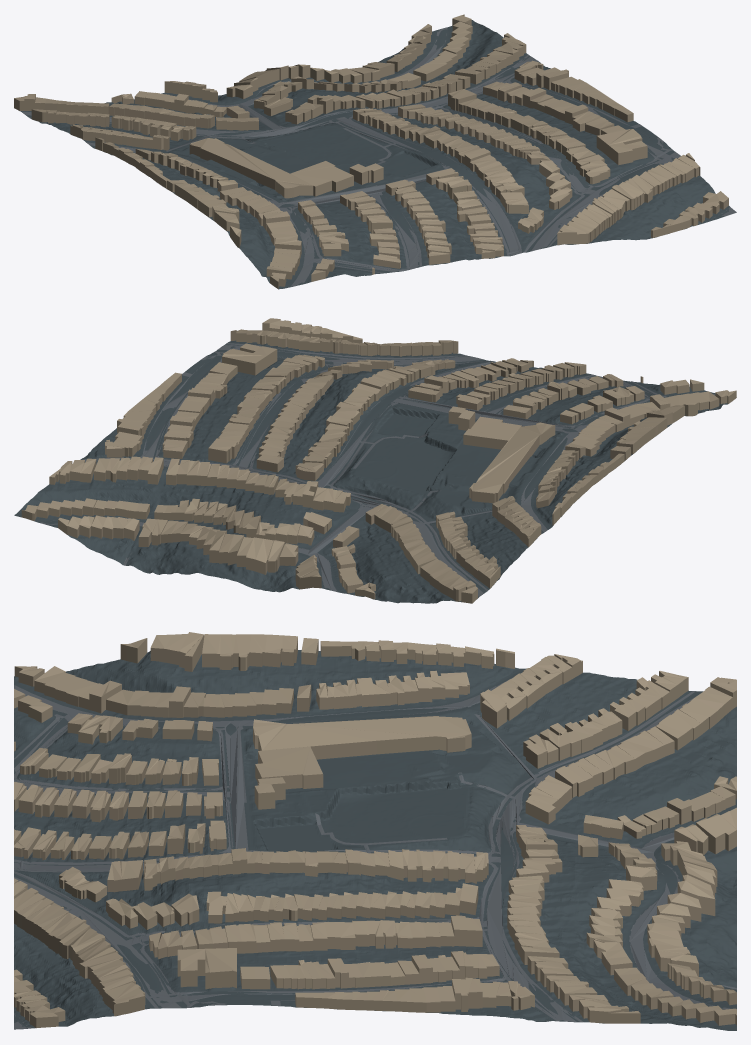
Rendered from epsg26910-1428-10877.lod0.glb.
3 renders of one model, top to bottom at view 1: azimuth 30°, elevation 25°; view 2: azimuth 150°, elevation 25°; view 3: azimuth 270°, elevation 25°, orthographic. The views are drawn at different scales.
Visible parts, largest first — view 1: epsg26910-1428-10877-lod0; view 2: epsg26910-1428-10877-lod0; view 3: epsg26910-1428-10877-lod0.
Boxes of the visible parts, x1,y1,x2,y2 form: epsg26910-1428-10877-lod0: (14, 14, 736, 289); epsg26910-1428-10877-lod0: (14, 318, 736, 603); epsg26910-1428-10877-lod0: (14, 632, 736, 1030).
Size of the model in its own units: 384 by 74.96 by 384.
